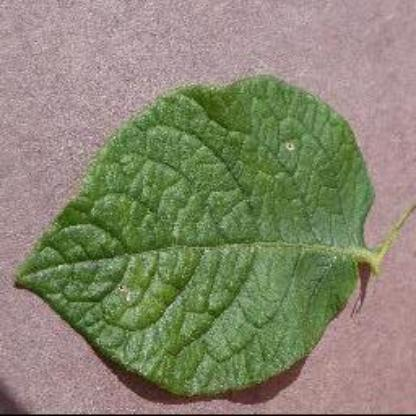Healthy-plant: (15, 39, 388, 395)
